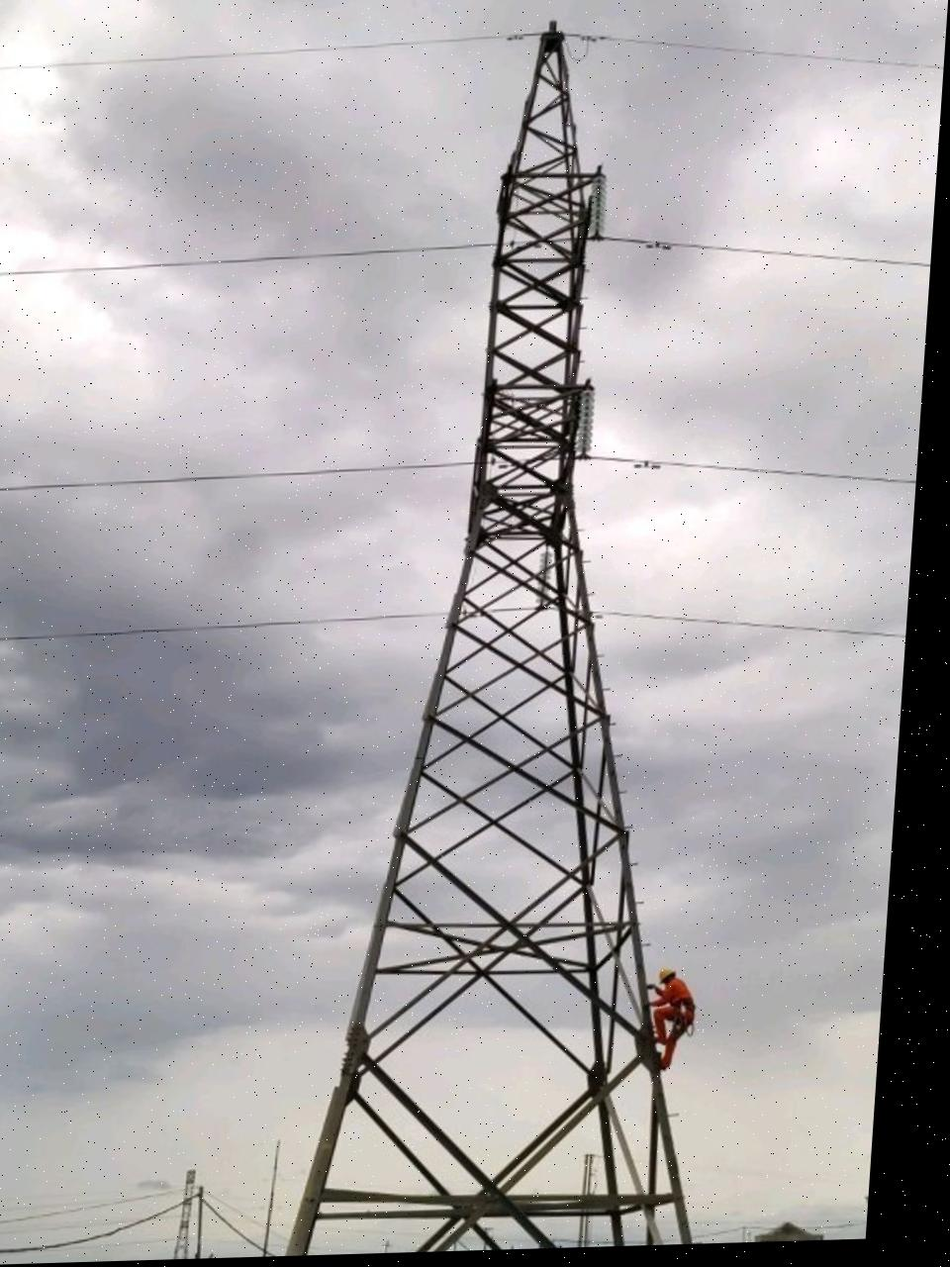tower: (243, 8, 736, 1257)
